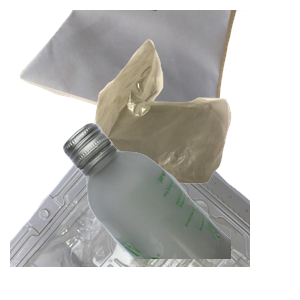glass: (60, 120, 300, 300)
paper: (17, 10, 254, 141)
plastic: (10, 120, 250, 300)
trash: (89, 37, 300, 213)
